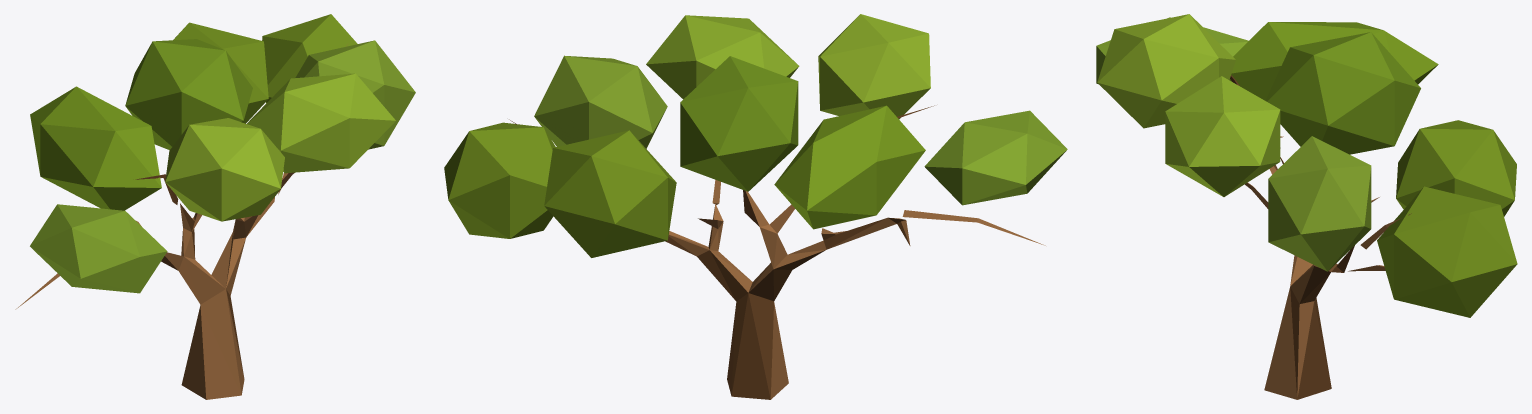
File: acacia_bloom_far.glb
The picture shows the model from 3 angles, left to right: view 1: azimuth 30°, elevation 25°; view 2: azimuth 150°, elevation 25°; view 3: azimuth 270°, elevation 25°; orthographic projection. The views are drawn at different scales.
Parts seen in each view (by area): view 1: acacia_bloom_far; view 2: acacia_bloom_far; view 3: acacia_bloom_far.
Part boxes in pixels (x1,y1,x2,y2): acacia_bloom_far: (15,14,415,399); acacia_bloom_far: (444,14,1067,399); acacia_bloom_far: (1096,14,1517,399).
Size of the model in its own units: 10.53 by 6.89 by 7.75.
